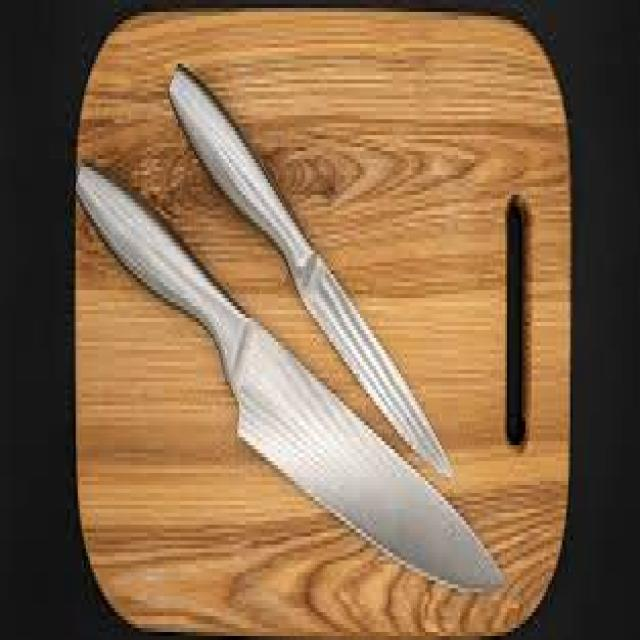Knife: (76, 163, 501, 588), (170, 64, 452, 473)
